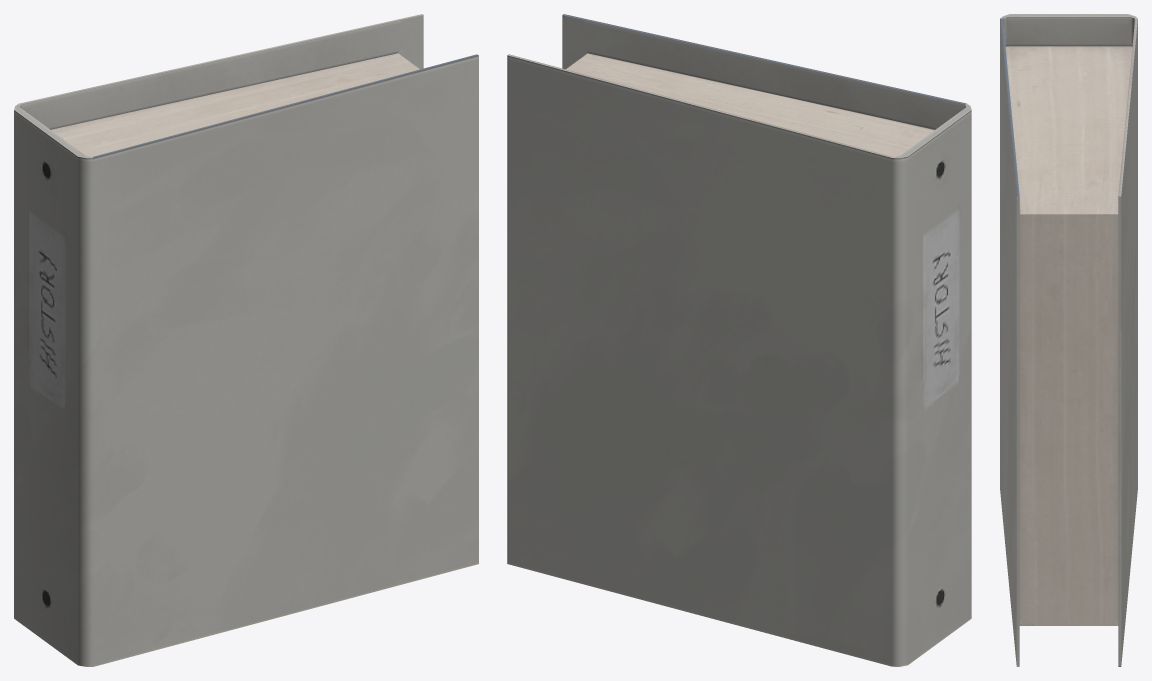
The model's file is SM_Binder_01d.fbx.
3 views of the same model, side by side, from view 1: azimuth 30°, elevation 25°; view 2: azimuth 150°, elevation 25°; view 3: azimuth 270°, elevation 25° (orthographic). The views are drawn at different scales.
Parts seen in each view (by area): view 1: SM_Binder_01d_LOD0; view 2: SM_Binder_01d_LOD0; view 3: SM_Binder_01d_LOD0.
Part boxes in pixels (left/top/right/bottom): SM_Binder_01d_LOD0: left=14, top=14, right=478, bottom=666; SM_Binder_01d_LOD0: left=507, top=14, right=971, bottom=666; SM_Binder_01d_LOD0: left=1000, top=14, right=1137, bottom=666.
Size of the model in its own units: 27.47 by 8.77 by 33.01.
Materials: 1 (1 with a texture image).
